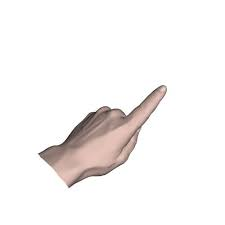hand: (30, 69, 190, 189)
